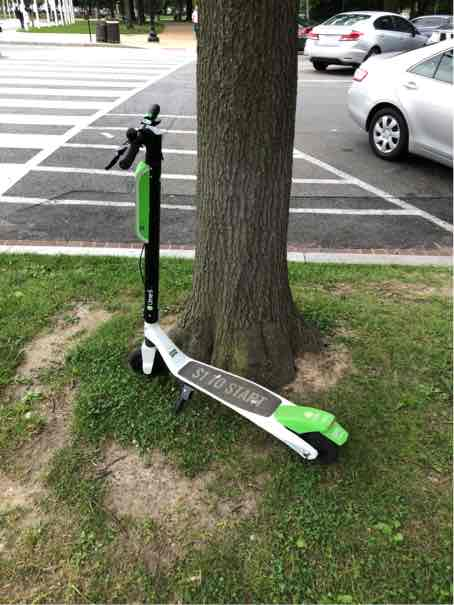scooter: (95, 94, 353, 467)
